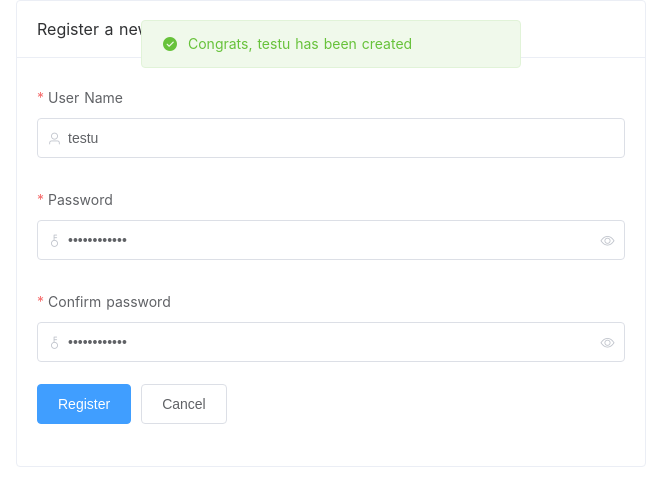
Auth register page › Auth Register Error › Register button works, validation errors, password should contain a lowercase letter
The width and height of the screenshot is (663, 484).
Click the button "Register".
click(84, 404)  # box [37, 384, 131, 424]
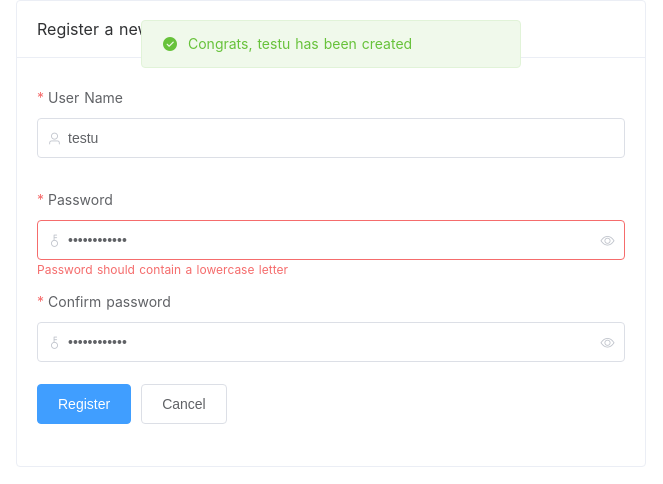
Now the text "Password should contain a lowercase letter" is shown, box [37, 260, 288, 276]
